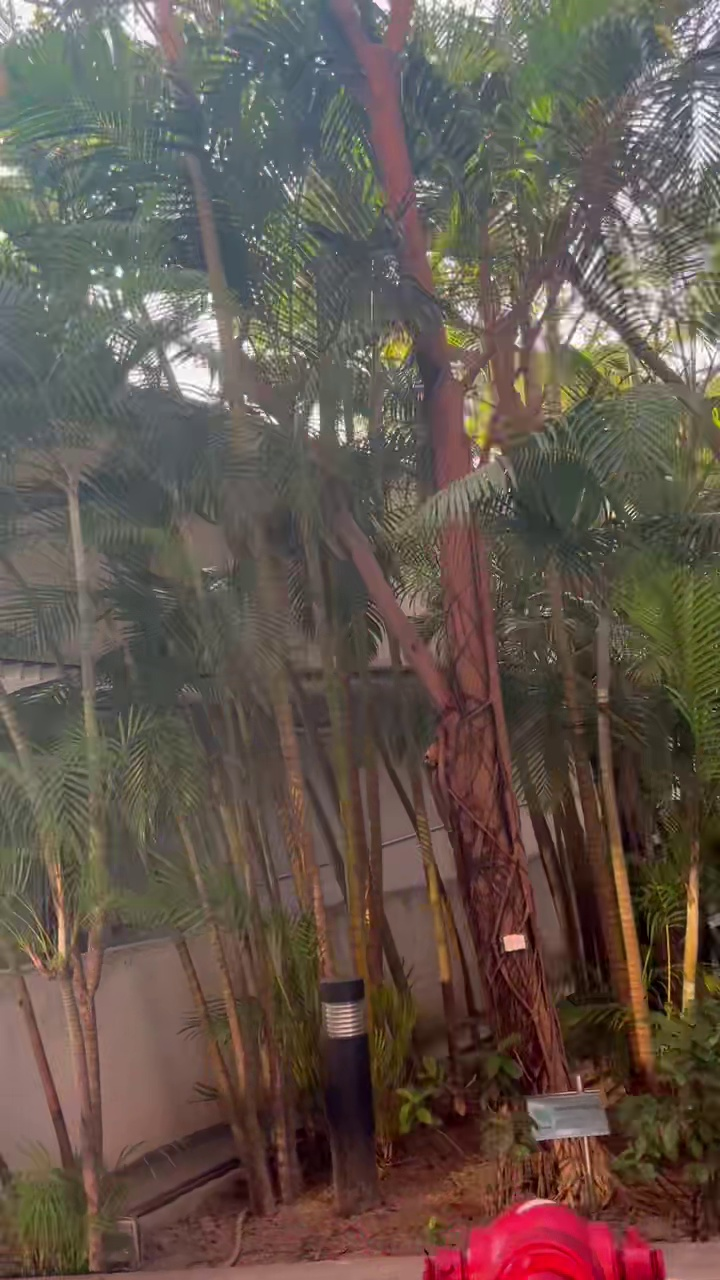Ficus benjamina: (332, 0, 569, 1093)
